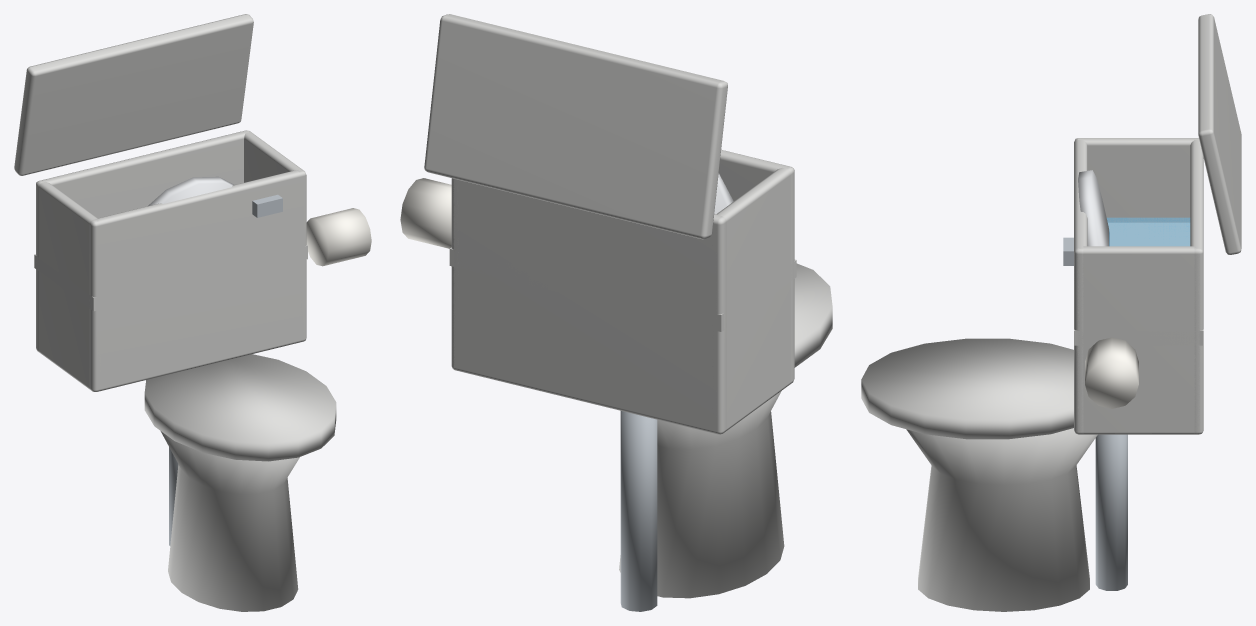
File: Toilet.fbx
3 views of the same model, side by side, from view 1: azimuth 30°, elevation 25°; view 2: azimuth 150°, elevation 25°; view 3: azimuth 270°, elevation 25° (orthographic). The views are drawn at different scales.
Visible parts, largest first — view 1: ToiletBody; view 2: ToiletBody; view 3: ToiletBody.
Part boxes in pixels (x1,y1,x2,y2): ToiletBody: (14,14,371,611); ToiletBody: (400,14,832,611); ToiletBody: (861,14,1241,611).
Bounding box in the file's own units: 0.67 × 1.05 × 0.704.
